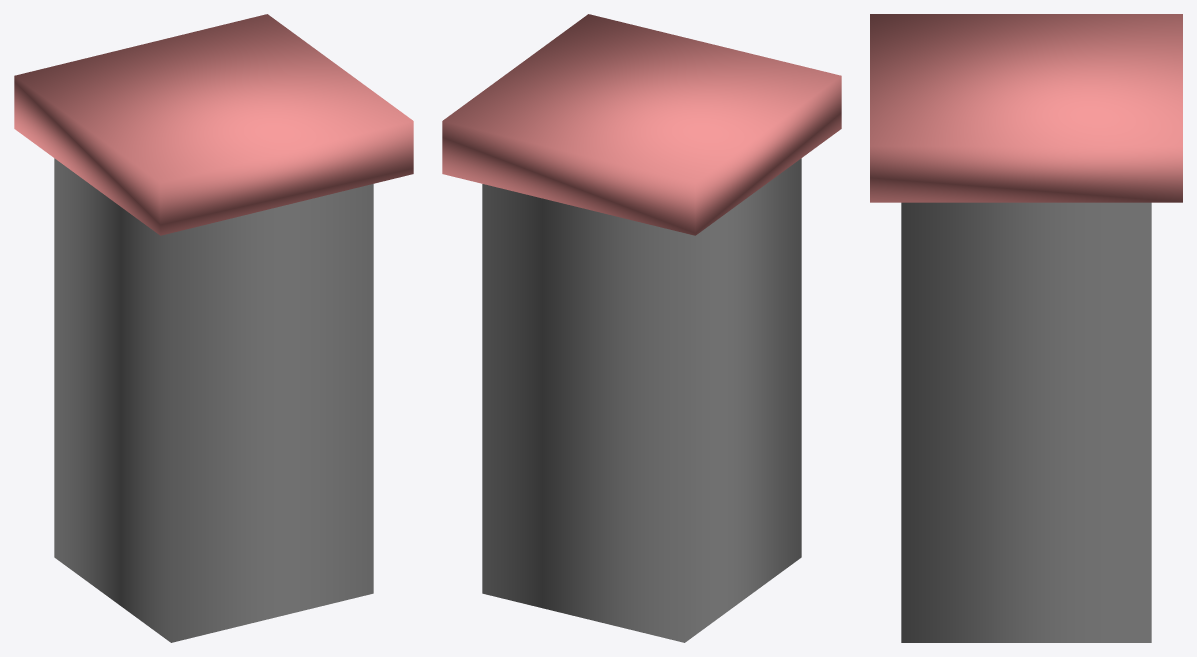
The model's file is SM_wallAttic_02_corner.gltf.
3 views of the same model, side by side, from view 1: azimuth 30°, elevation 25°; view 2: azimuth 150°, elevation 25°; view 3: azimuth 270°, elevation 25° (orthographic). The views are drawn at different scales.
Parts seen in each view (by area): view 1: SM_wallAttic_02_corner; view 2: SM_wallAttic_02_corner; view 3: SM_wallAttic_02_corner.
Part boxes in pixels (x1,y1,x2,y2): SM_wallAttic_02_corner: (14,14,413,642); SM_wallAttic_02_corner: (442,14,841,642); SM_wallAttic_02_corner: (870,14,1182,642).
Bounding box in the file's own units: 0.5 × 0.9 × 0.5.
